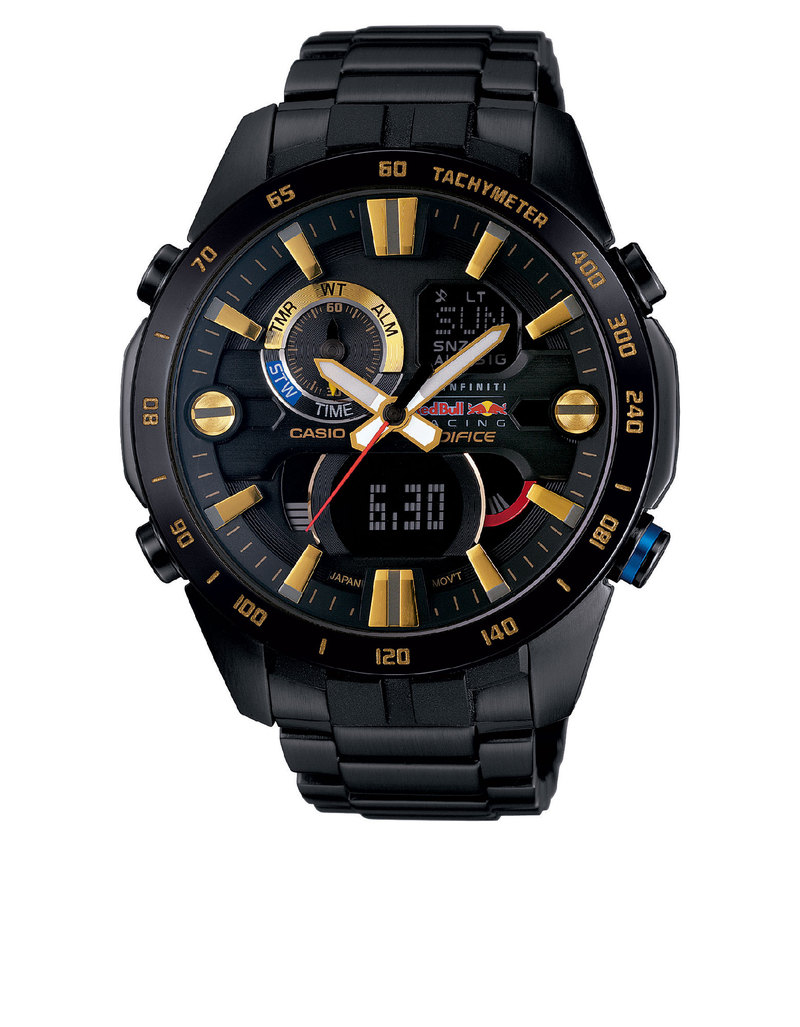clock: (115, 145, 686, 678)
